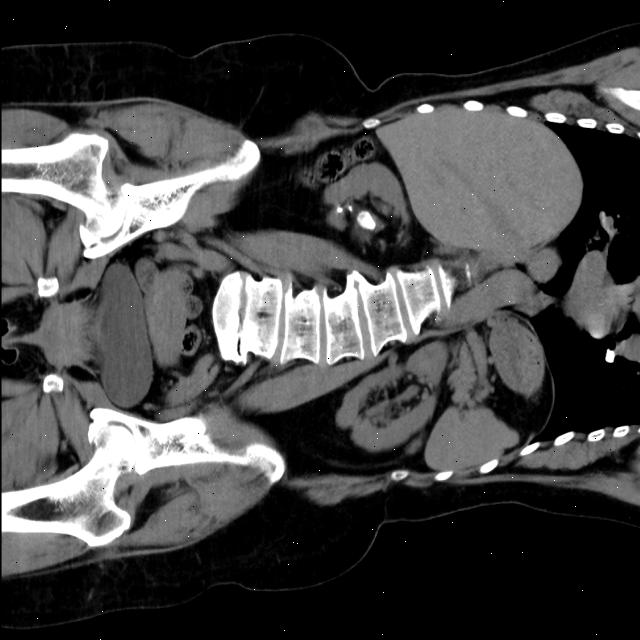kidneystone: (356, 211, 375, 230)
